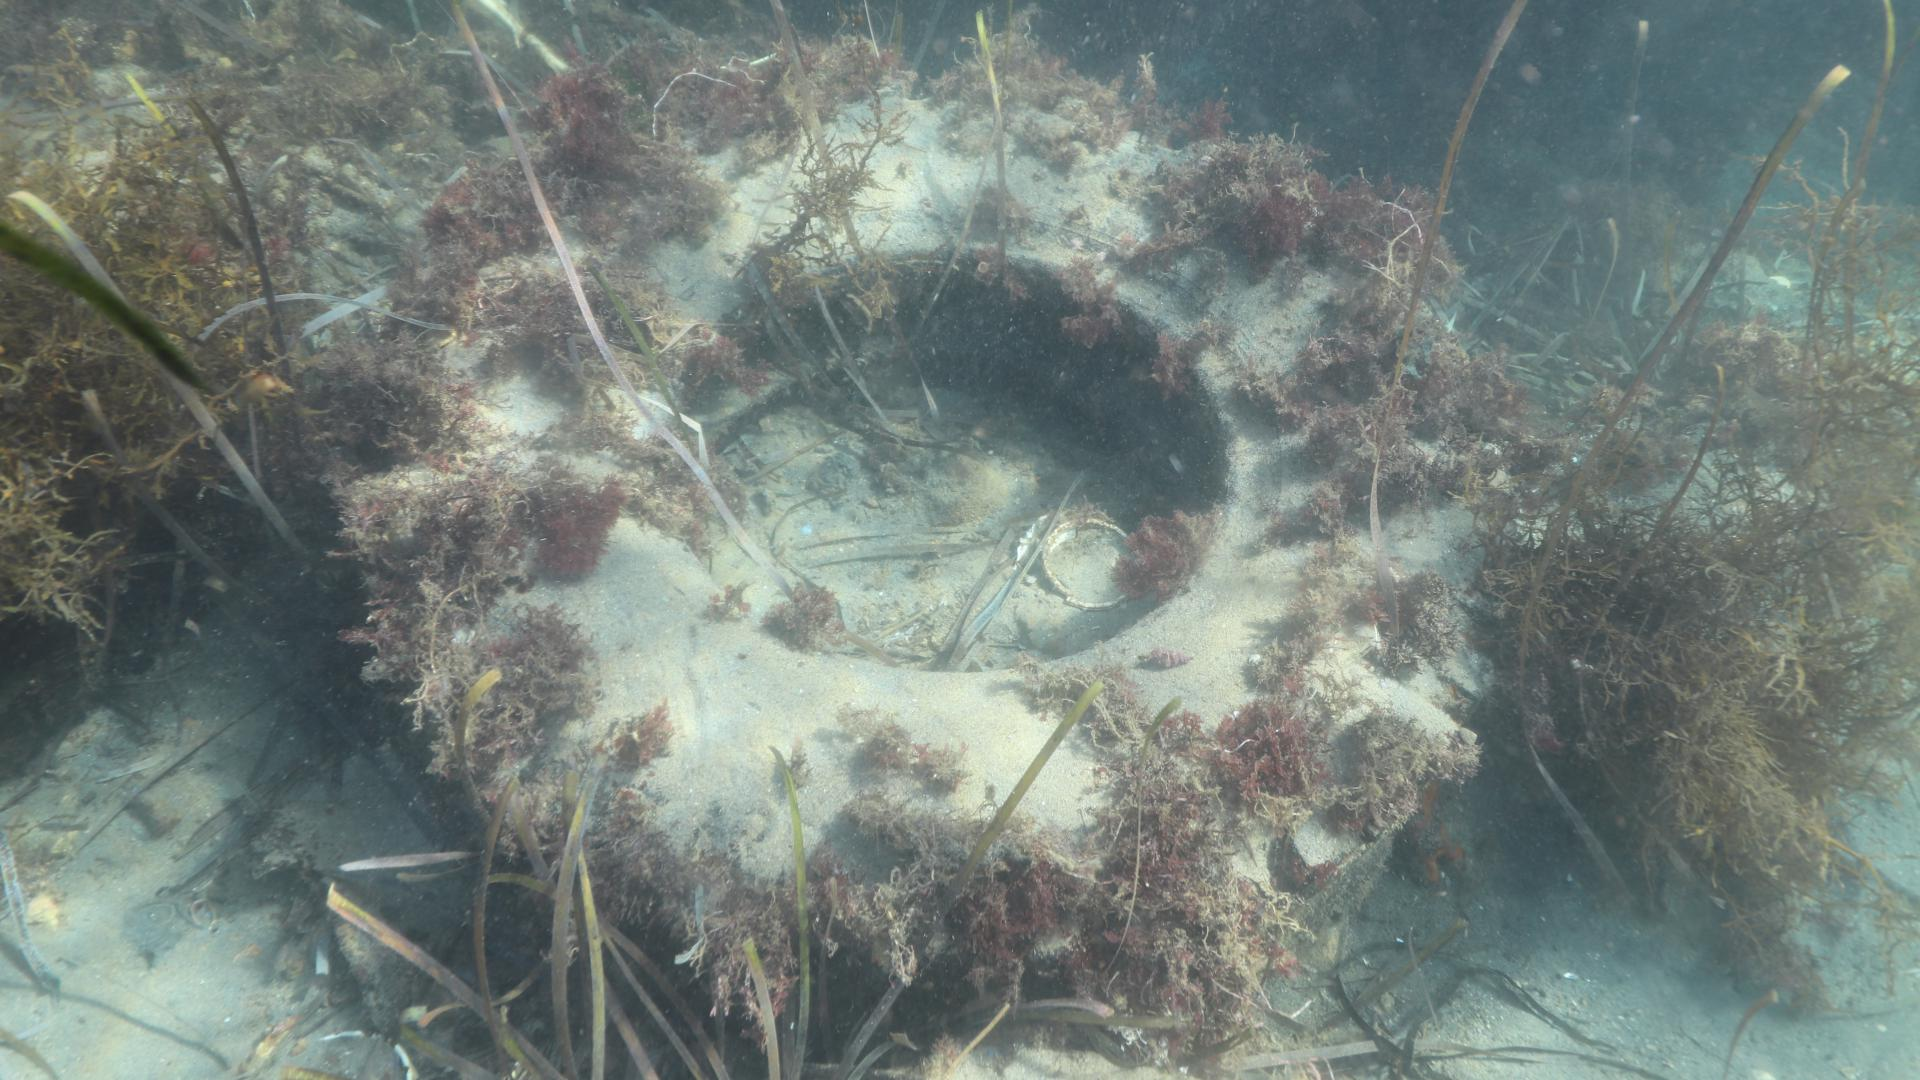tire: (467, 76, 1484, 1048)
